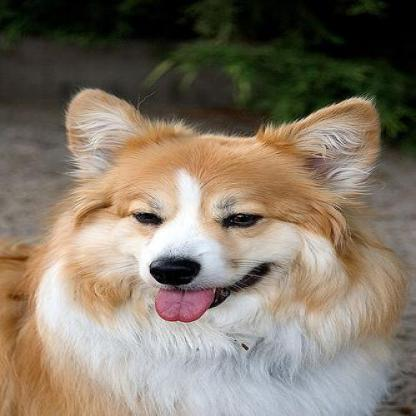Pembroke: (0, 85, 404, 413)
